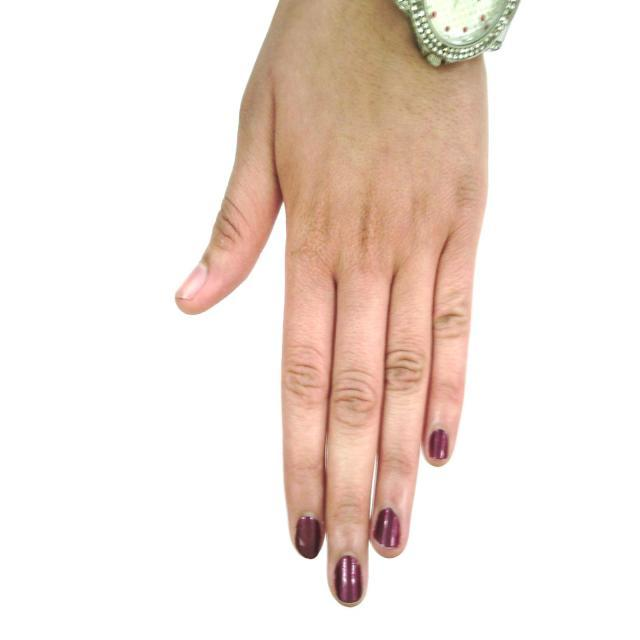Fingernail: (336, 556, 363, 605), (374, 508, 400, 547), (177, 265, 206, 299), (297, 516, 320, 558), (429, 429, 448, 459)
